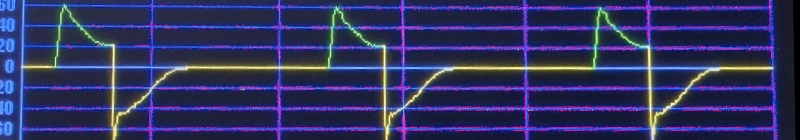normal_flow: (16, 3, 789, 140)
